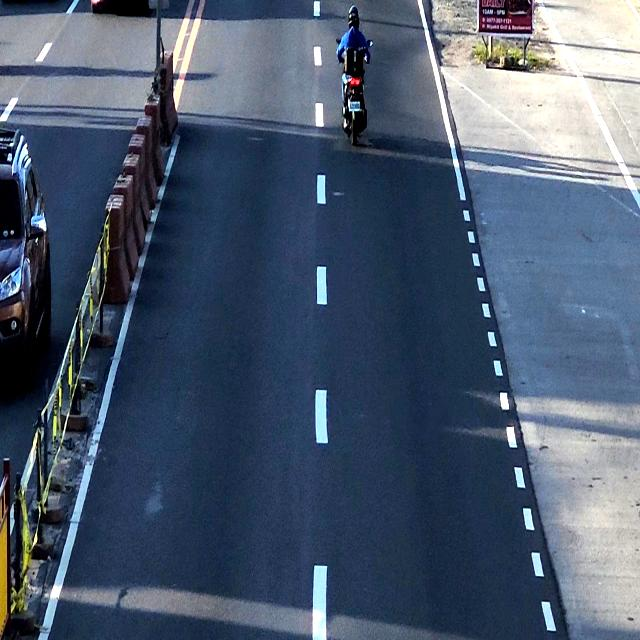License-Plate: (348, 97, 362, 115)
Motorcycle: (340, 0, 372, 153)
